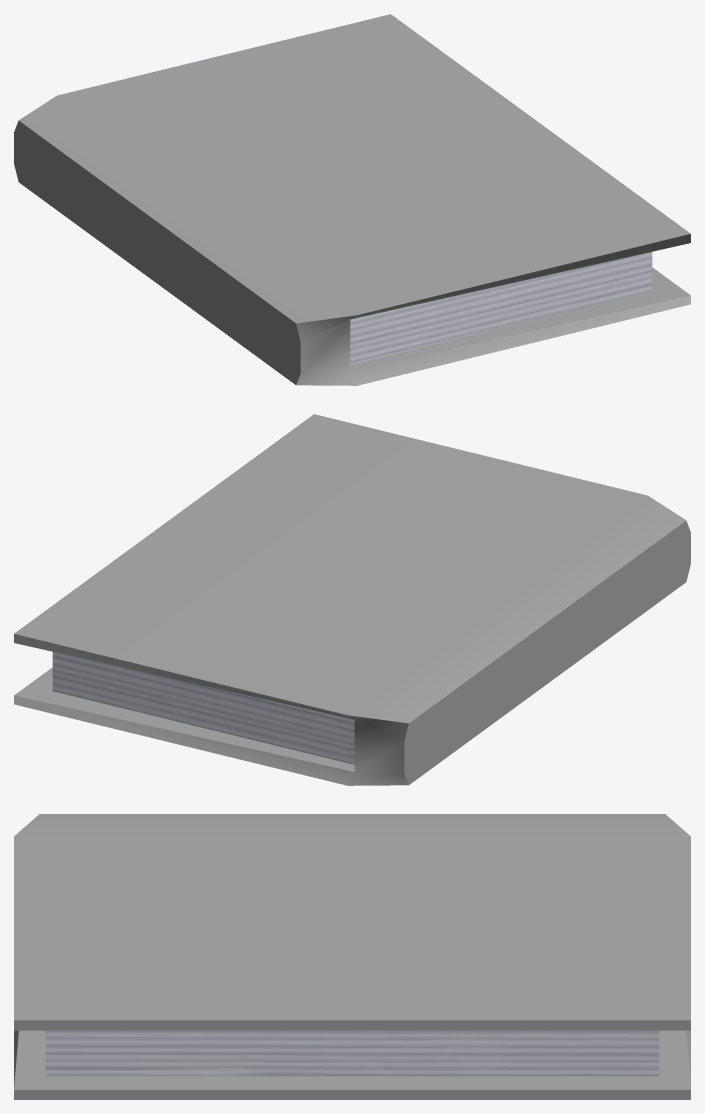
File: closed_book_model.fbx
3 views of the same model, one above another, from view 1: azimuth 30°, elevation 25°; view 2: azimuth 150°, elevation 25°; view 3: azimuth 270°, elevation 25° (orthographic). The views are drawn at different scales.
Parts seen in each view (by area): view 1: pCube4; view 2: pCube4; view 3: pCube4.
Boxes of the visible parts, x1,y1,x2,y2 form: pCube4: [14, 14, 690, 385]; pCube4: [14, 414, 690, 785]; pCube4: [14, 814, 690, 1099].
Bounding box in the file's own units: 0.0319 × 0.0056 × 0.0432.
